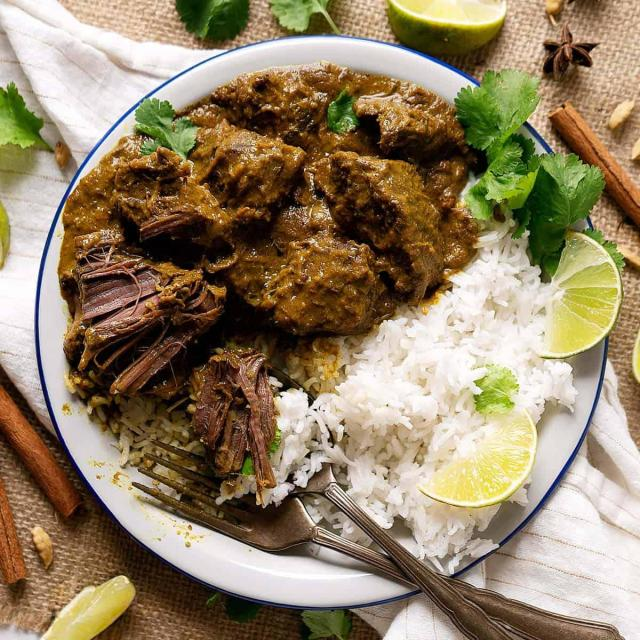Rendang: (58, 75, 460, 356)
